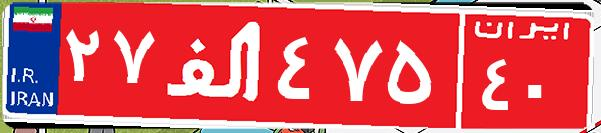0: (525, 38, 570, 115)
2: (57, 26, 110, 107)
4: (273, 28, 330, 110), (475, 38, 525, 113)
5: (385, 28, 445, 110)
7: (330, 28, 385, 110), (110, 28, 158, 105)
الف: (158, 15, 273, 115)
